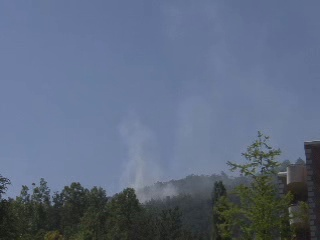smoke: (117, 122, 220, 203)
